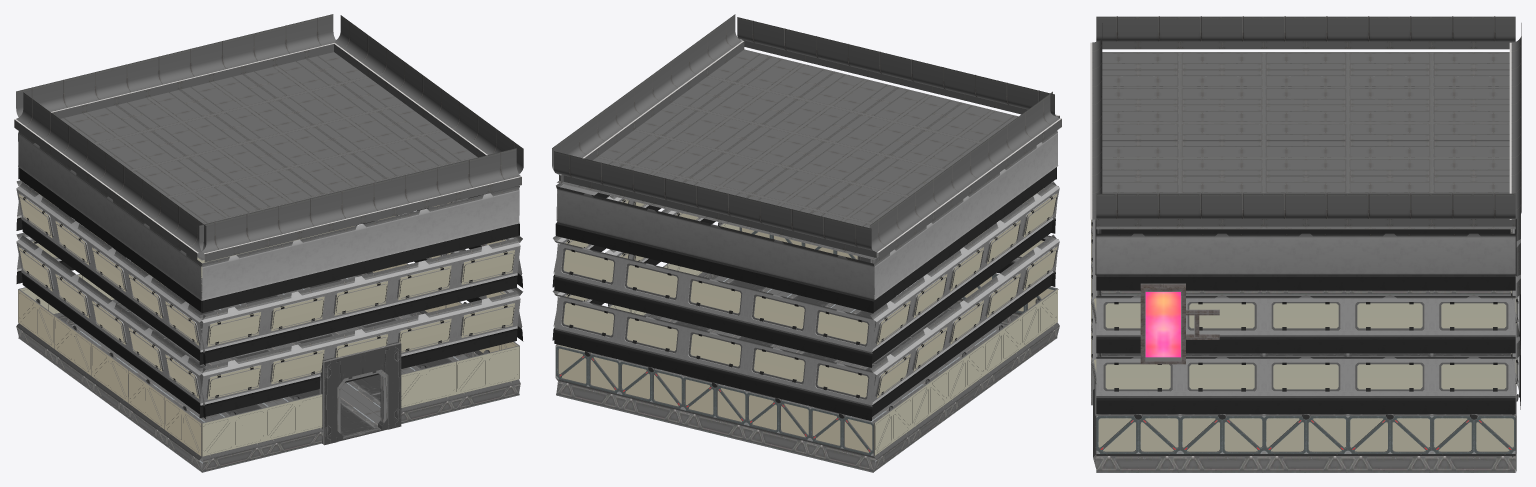
Rendered from sc-office.glb.
The picture shows the model from 3 angles, left to right: view 1: azimuth 30°, elevation 25°; view 2: azimuth 150°, elevation 25°; view 3: azimuth 270°, elevation 25°; orthographic projection. The views are drawn at different scales.
Visible parts, largest first — view 1: sc-office; view 2: sc-office; view 3: sc-office.
Boxes of the visible parts, x1,y1,x2,y2 form: sc-office: (14,14,523,472); sc-office: (552,14,1061,472); sc-office: (1090,16,1521,472).
Size of the model in its own units: 20.95 by 14.82 by 20.57.
9 materials, 7 textured.
